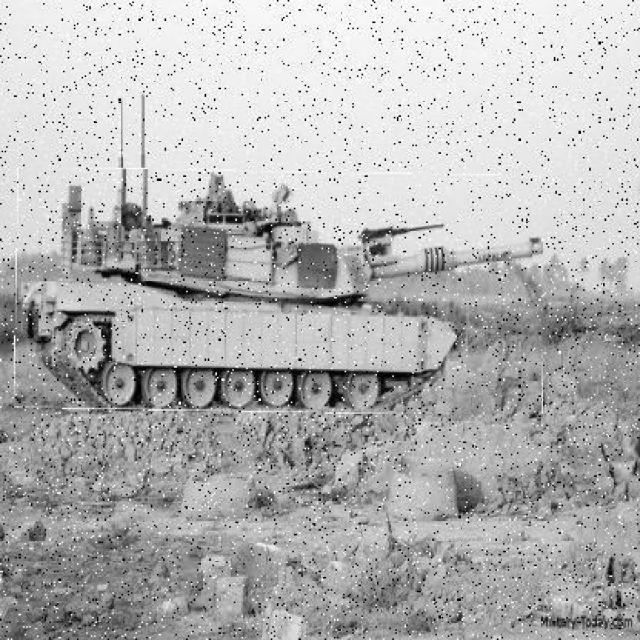Tank: (15, 172, 546, 415)
